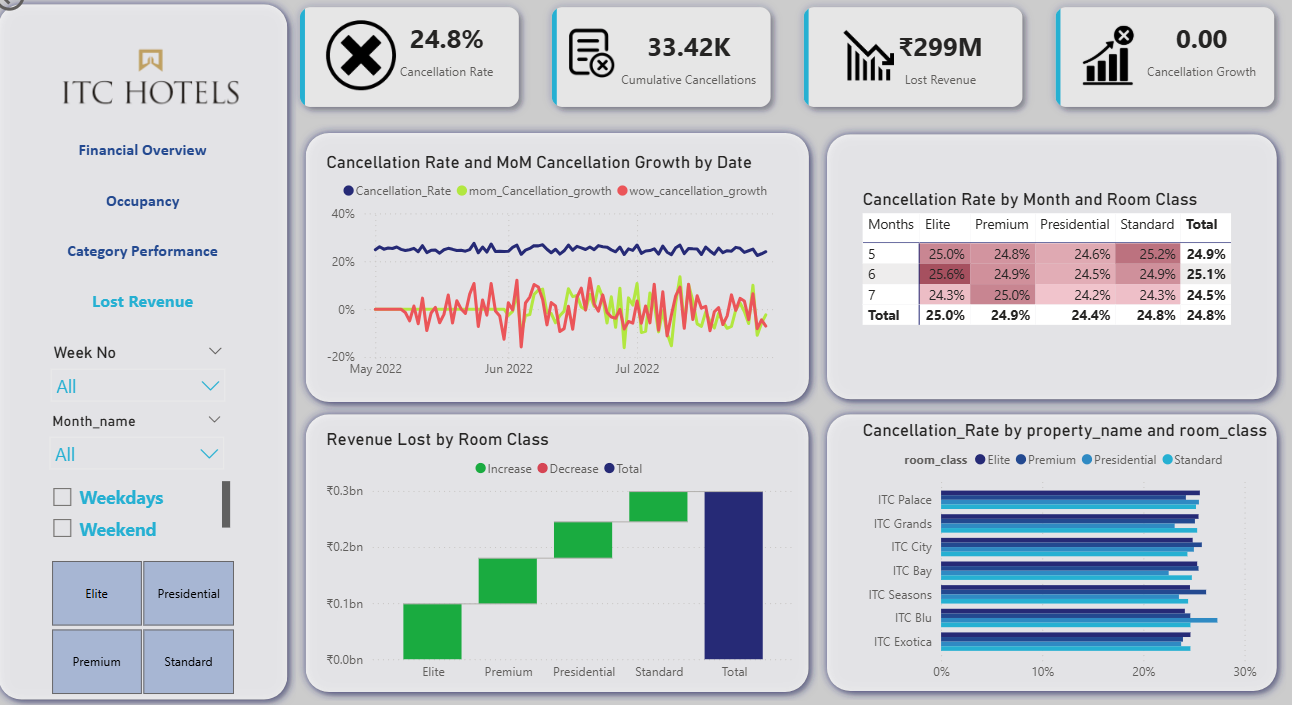

This screenshot's page, from the dashboard's own definition file:
{"tool":"powerbi","page":{"name":"Lost Revenue","canvas":[1280,720],"ordinal":3},"visuals":[{"type":"shape","box":[813.3,146.8,459.6,278.3],"z":0},{"type":"shape","box":[813.3,422.6,459.6,289.8],"z":1000},{"type":"shape","box":[301.8,422.1,511.7,290.8],"z":2000},{"type":"shape","box":[301.3,145.5,512,282.1],"z":3000},{"type":"shape","box":[0,19.6,301.8,700.6],"z":4000},{"type":"actionButton","box":[0,0,100,40],"z":6000},{"type":"slicer","fields":{"Values":["Calendar.day_type"]},"box":[50.3,492,191.4,67.5],"z":7000},{"type":"slicer","fields":{"Values":["Calendar.Month_name"]},"box":[49.1,424.5,191.4,67.5],"z":8000},{"type":"slicer","fields":{"Values":["Calendar.Week_no"]},"box":[50.3,357.1,191.4,67.5],"z":9000},{"type":"pageNavigator","box":[50.3,152.1,201.2,186.5],"z":10000},{"type":"image","box":[49.1,0,220.9,198.8],"z":11000},{"type":"waterfallChart","title":"Revenue Lost by Room Class","fields":{"Y":["dax.Lost_Revenue"],"Category":["rooms.room_class"]},"box":[326.4,445.4,469.9,256.4],"z":16000},{"type":"clusteredBarChart","fields":{"Y":["dax.Cancellation_Rate"],"Category":["Hotels.property_name"],"Series":["rooms.room_class"]},"box":[852.8,436.6,408.5,265.6],"z":17000},{"type":"lineChart","title":"Cancellation Rate and MoM Cancellation Growth by Date","fields":{"Category":["Calendar.Date"],"Y":["dax.Cancellation_Rate","dax.mom_Cancellation_growth","dax.wow_cancellation_growth"]},"box":[326.7,173.3,463.3,232.2],"z":18000},{"type":"pivotTable","title":"Cancellation Rate by Month and Room Class","fields":{"Rows":["Calendar.Months"],"Columns":["rooms.room_class"],"Values":["dax.Cancellation_Rate"]},"box":[852.8,209.4,389.4,160.9],"z":19000},{"type":"slicer","fields":{"Values":["rooms.room_class"]},"box":[35.7,568.1,228.5,144.3],"z":20000},{"type":"cardVisual","fields":{"Data":["dax.Cancellation_Rate","dax.Cummulative Cancellations","dax.Lost_Revenue","dax.wow_cancellation_growth"]},"box":[288.3,14.7,991.4,132.5],"z":21001}]}

Visuals, with their boxes on the page's 1280x720 design canvas (x1, y1, x2, y2). These are canvas units, not pixel positions in the 1292x705 screenshot, which may show the page scaled, cropped or inside an application window:
shape: {"x1": 813, "y1": 147, "x2": 1273, "y2": 425}
shape: {"x1": 813, "y1": 423, "x2": 1273, "y2": 712}
shape: {"x1": 302, "y1": 422, "x2": 814, "y2": 713}
shape: {"x1": 301, "y1": 146, "x2": 813, "y2": 428}
shape: {"x1": 0, "y1": 20, "x2": 302, "y2": 720}
actionButton: {"x1": 0, "y1": 0, "x2": 100, "y2": 40}
slicer - Calendar.day_type: {"x1": 50, "y1": 492, "x2": 242, "y2": 560}
slicer - Calendar.Month_name: {"x1": 49, "y1": 424, "x2": 240, "y2": 492}
slicer - Calendar.Week_no: {"x1": 50, "y1": 357, "x2": 242, "y2": 425}
pageNavigator: {"x1": 50, "y1": 152, "x2": 252, "y2": 339}
image: {"x1": 49, "y1": 0, "x2": 270, "y2": 199}
"Revenue Lost by Room Class" waterfallChart: {"x1": 326, "y1": 445, "x2": 796, "y2": 702}
clusteredBarChart - dax.Cancellation_Rate x Hotels.property_name: {"x1": 853, "y1": 437, "x2": 1261, "y2": 702}
"Cancellation Rate and MoM Cancellation Growth by Date" lineChart: {"x1": 327, "y1": 173, "x2": 790, "y2": 406}
"Cancellation Rate by Month and Room Class" pivotTable: {"x1": 853, "y1": 209, "x2": 1242, "y2": 370}
slicer - rooms.room_class: {"x1": 36, "y1": 568, "x2": 264, "y2": 712}
cardVisual - dax.Cancellation_Rate x dax.Cummulative Cancellations: {"x1": 288, "y1": 15, "x2": 1280, "y2": 147}
